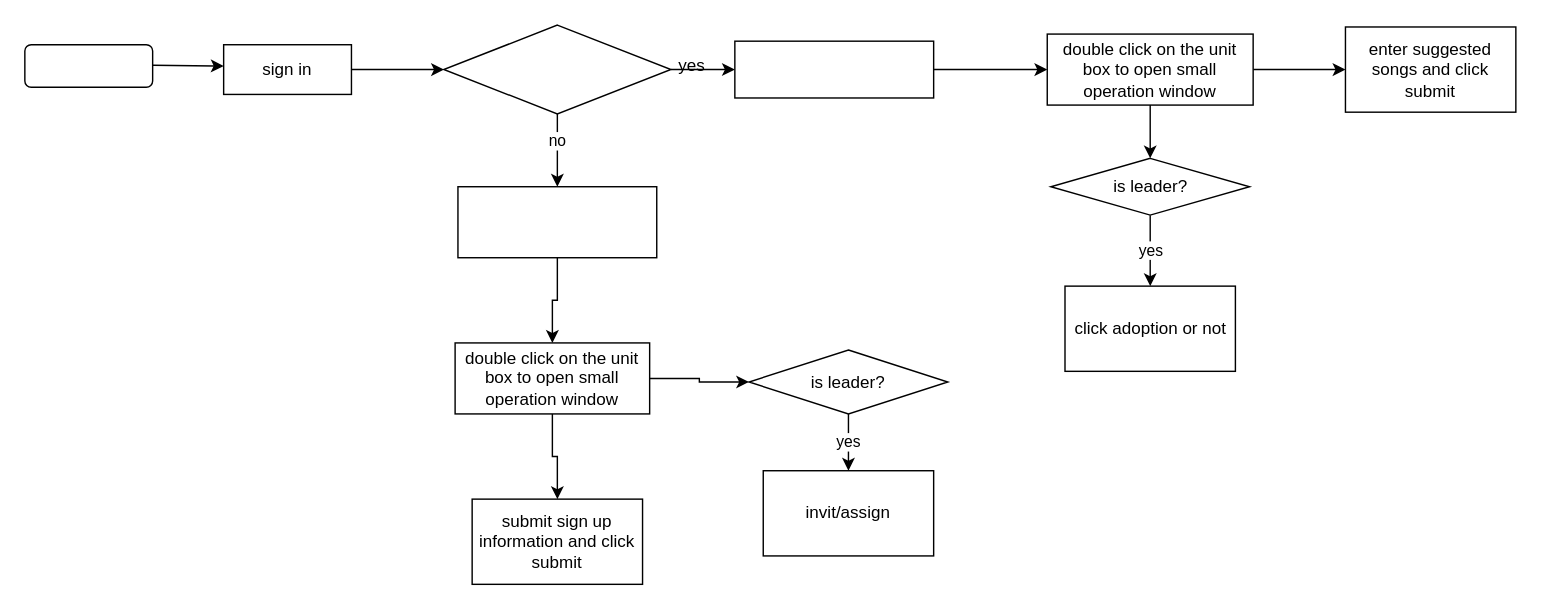
The diagram is 1541 pixels wide and 609 high, and some of its shapes have lost their labels. Each missing label, with the centre of its shape:
choosing songs calendar?: point 556,69
display people calendar: point 557,221
display songs calendar: point 833,69
sign up: point 88,65
